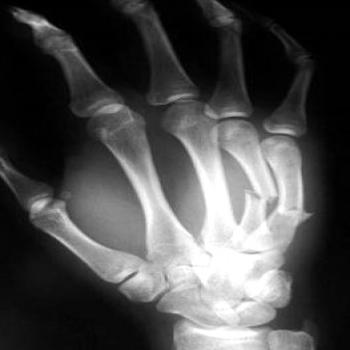Fracture: (274, 199, 318, 225), (239, 182, 277, 206)
